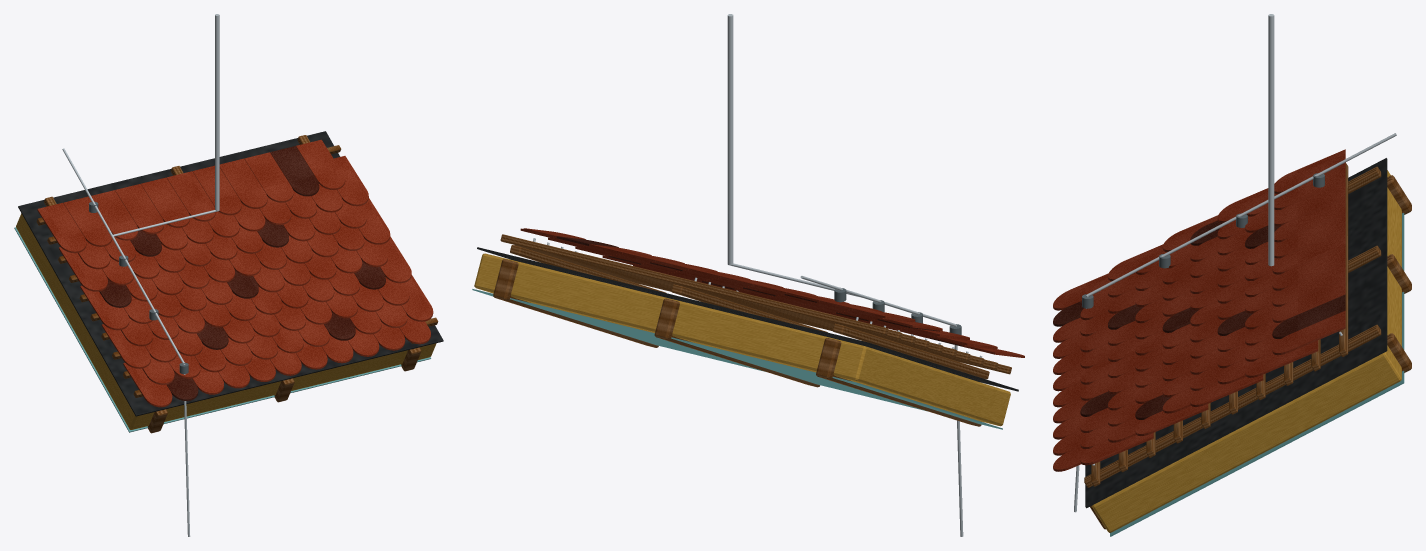
File: modell.glb
The picture shows the model from 3 angles, left to right: view 1: azimuth 30°, elevation 25°; view 2: azimuth 150°, elevation 25°; view 3: azimuth 270°, elevation 25°; orthographic projection. The views are drawn at different scales.
Visible parts, largest first — view 1: a04-deckziegel_deckung, a04-zusatzebene_zusatzebene, a04-daemmung_daemmung, a04-deckziegel_deckung.001, a04-luftdichtheit_luftdichtheit, a04-lattung_lattung, a04-ableitung_, a04-fangeinrichtung_, a04-sparren_tragwerk; view 2: a04-daemmung_daemmung, a04-lattung_lattung, a04-deckziegel_deckung, a04-sparren_tragwerk, a04-luftdichtheit_luftdichtheit, a04-zusatzebene_zusatzebene, a04-fangeinrichtung_, a04-ableitung_, a04-deckziegel_deckung.001; view 3: a04-deckziegel_deckung, a04-daemmung_daemmung, a04-zusatzebene_zusatzebene, a04-lattung_lattung, a04-deckziegel_deckung.001, a04-fangeinrichtung_, a04-luftdichtheit_luftdichtheit, a04-sparren_tragwerk, a04-ableitung_, a04-halter_.
Part boxes in pixels (x1=…): a04-deckziegel_deckung: x1=37, y1=139, x2=433, y2=407; a04-zusatzebene_zusatzebene: x1=18, y1=131, x2=443, y2=416; a04-daemmung_daemmung: x1=16, y1=213, x2=436, y2=429; a04-deckziegel_deckung.001: x1=99, y1=146, x2=385, y2=400; a04-luftdichtheit_luftdichtheit: x1=14, y1=227, x2=430, y2=432; a04-lattung_lattung: x1=36, y1=135, x2=438, y2=397; a04-ableitung_: x1=62, y1=148, x2=217, y2=363; a04-fangeinrichtung_: x1=215, y1=14, x2=219, y2=211; a04-sparren_tragwerk: x1=147, y1=347, x2=421, y2=433; a04-daemmung_daemmung: x1=474, y1=253, x2=1010, y2=426; a04-lattung_lattung: x1=500, y1=234, x2=1011, y2=379; a04-deckziegel_deckung: x1=520, y1=228, x2=1024, y2=357; a04-sparren_tragwerk: x1=493, y1=259, x2=981, y2=426; a04-luftdichtheit_luftdichtheit: x1=472, y1=289, x2=1002, y2=429; a04-zusatzebene_zusatzebene: x1=477, y1=247, x2=1018, y2=391; a04-fangeinrichtung_: x1=727, y1=14, x2=733, y2=265; a04-ableitung_: x1=730, y1=263, x2=956, y2=326; a04-deckziegel_deckung.001: x1=556, y1=236, x2=962, y2=346; a04-deckziegel_deckung: x1=1053, y1=149, x2=1345, y2=471; a04-daemmung_daemmung: x1=1092, y1=170, x2=1401, y2=532; a04-zusatzebene_zusatzebene: x1=1085, y1=158, x2=1387, y2=508; a04-lattung_lattung: x1=1084, y1=162, x2=1381, y2=487; a04-deckziegel_deckung.001: x1=1053, y1=220, x2=1345, y2=419; a04-fangeinrichtung_: x1=1268, y1=14, x2=1274, y2=266; a04-luftdichtheit_luftdichtheit: x1=1110, y1=213, x2=1404, y2=536; a04-sparren_tragwerk: x1=1090, y1=175, x2=1411, y2=529; a04-ableitung_: x1=1087, y1=133, x2=1396, y2=296; a04-halter_: x1=1082, y1=173, x2=1324, y2=308.
Bounding box in the file's own units: 2.14 × 2.92 × 1.69.
8 materials, 5 textured.
